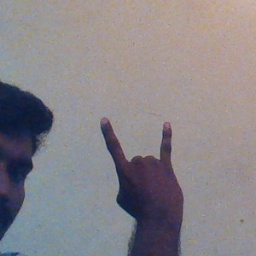V: (97, 105, 193, 218)
